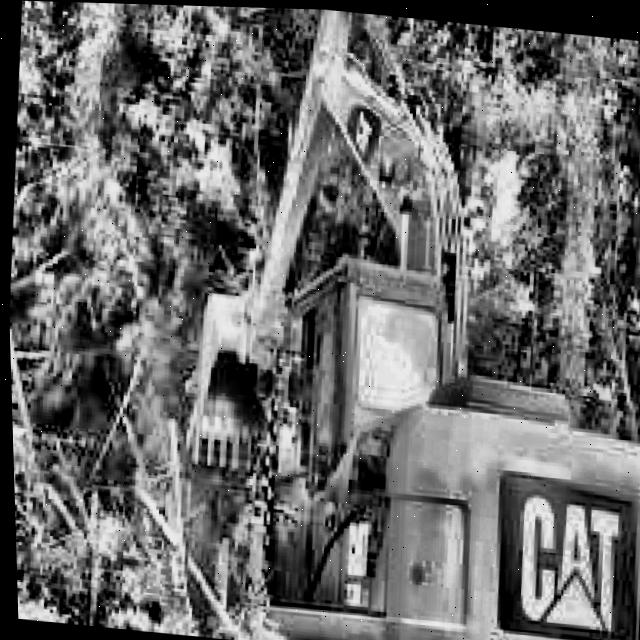excavator: (159, 4, 640, 640)
